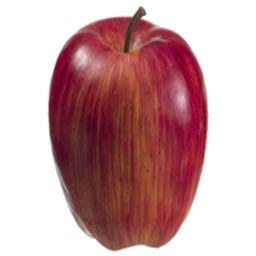apple: (48, 12, 207, 248)
